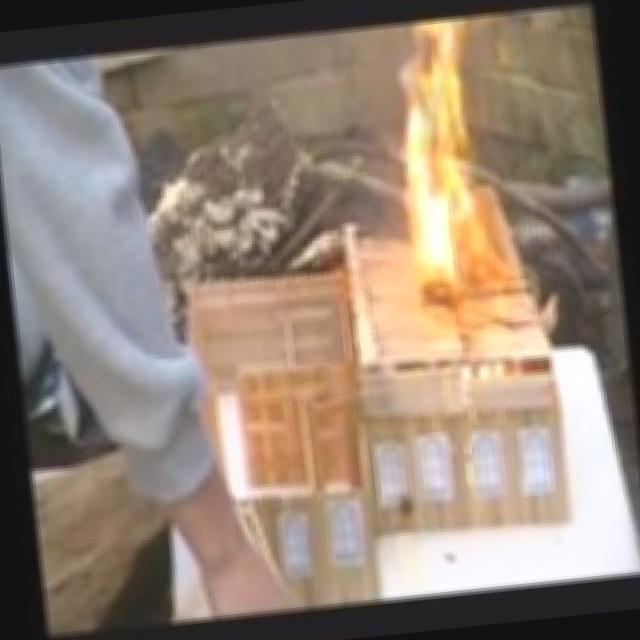fire: (371, 11, 520, 308)
